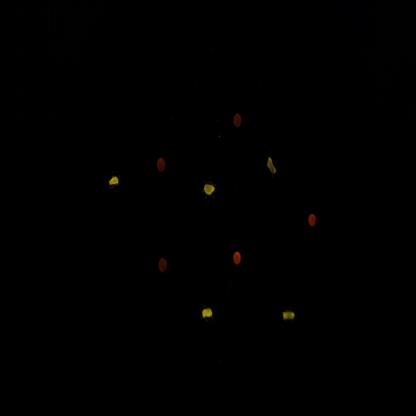PP: (273, 298, 303, 335), (198, 173, 226, 211), (261, 145, 286, 186), (104, 163, 127, 204), (196, 296, 221, 330)
PS: (150, 249, 177, 287), (226, 237, 249, 277), (152, 144, 173, 185), (229, 101, 249, 140), (304, 200, 323, 239)
